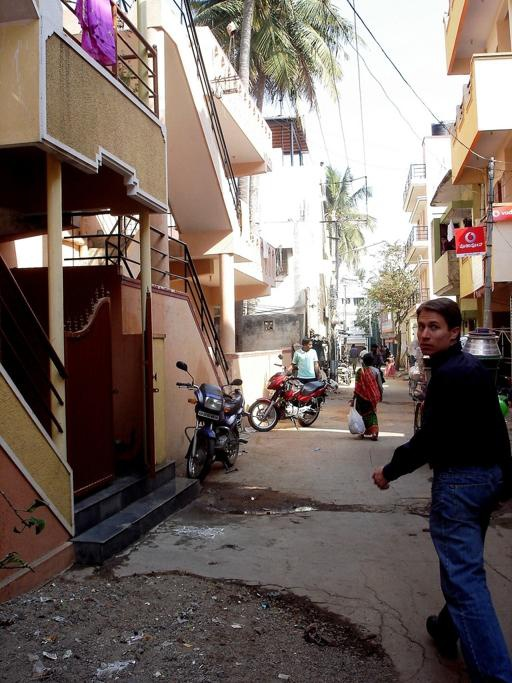non-vehicle: (175, 360, 251, 483), (246, 353, 330, 433)
